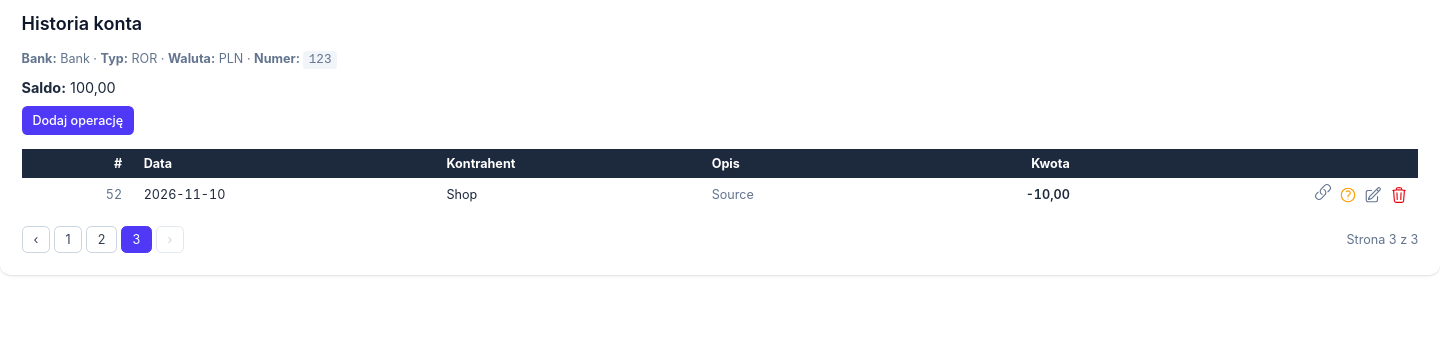
Test case: keeps the source page and reports a genuinely missing other side
The image size is (1440, 337).
Click the button named "Pokaż drugą stronę transakcji" at [1323, 192], box [1314,184,1332,202]
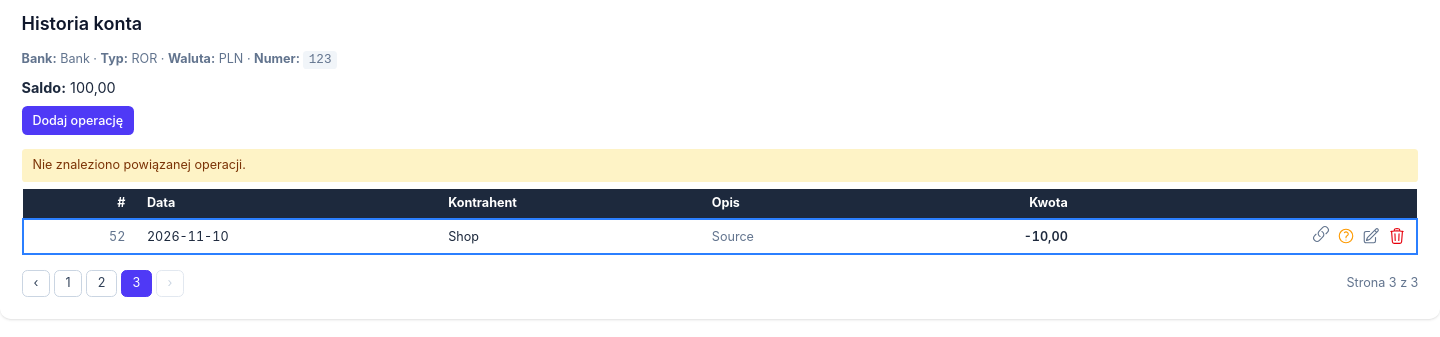
expect the message reads "Nie znaleziono powiązanej operacji.": met, box [32,158,246,172]
